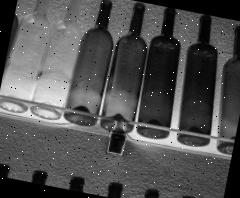glass: (0, 0, 240, 154)
